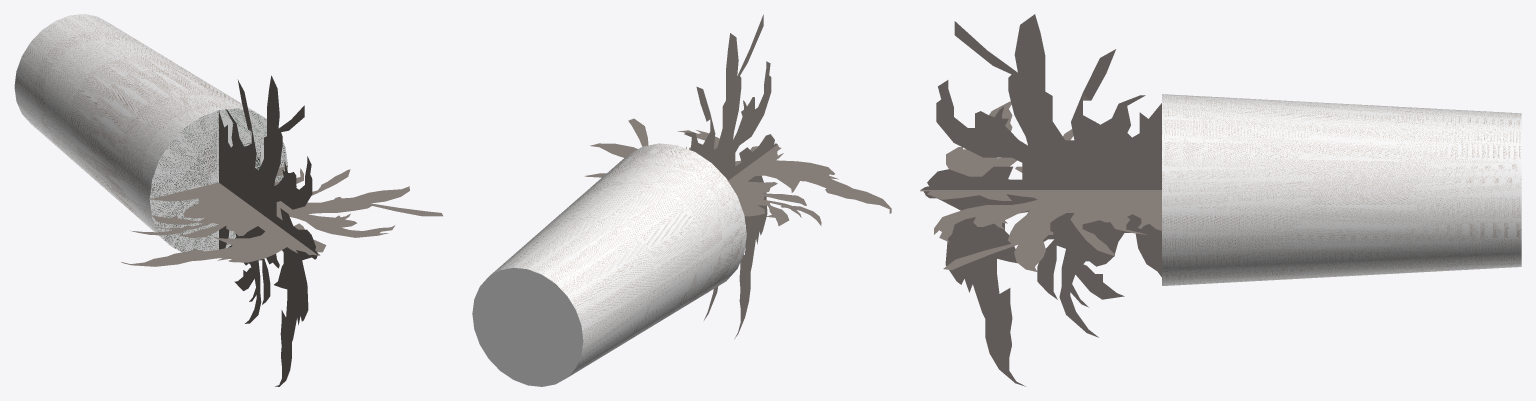
File: plant_floor_small.obj
3 views of the same model, side by side, from view 1: azimuth 30°, elevation 25°; view 2: azimuth 150°, elevation 25°; view 3: azimuth 270°, elevation 25° (orthographic). The views are drawn at different scales.
Visible parts, largest first — view 1: plant_floor_small; view 2: plant_floor_small; view 3: plant_floor_small.
Boxes of the visible parts, x1,y1,x2,y2 form: plant_floor_small: [14, 14, 442, 386]; plant_floor_small: [472, 14, 891, 386]; plant_floor_small: [920, 14, 1521, 386].
Bounding box in the file's own units: 0.6383 × 0.6406 × 0.936.
Materials: 4 (2 with a texture image).
